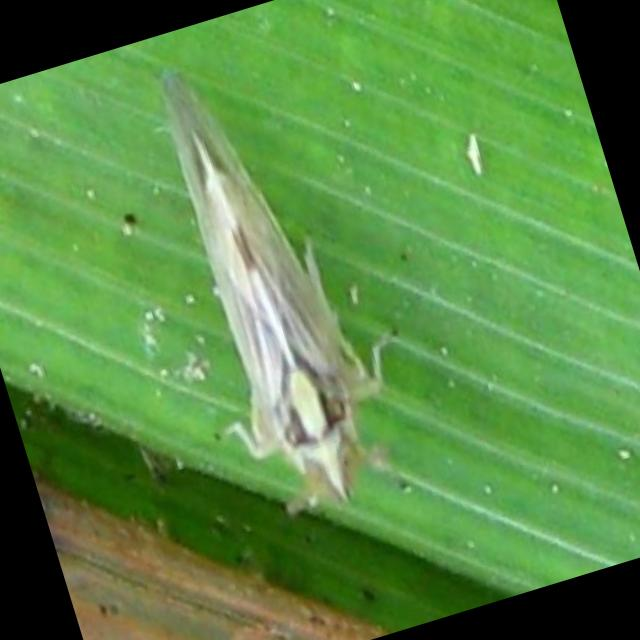brown-planthopper: (136, 39, 398, 518)
